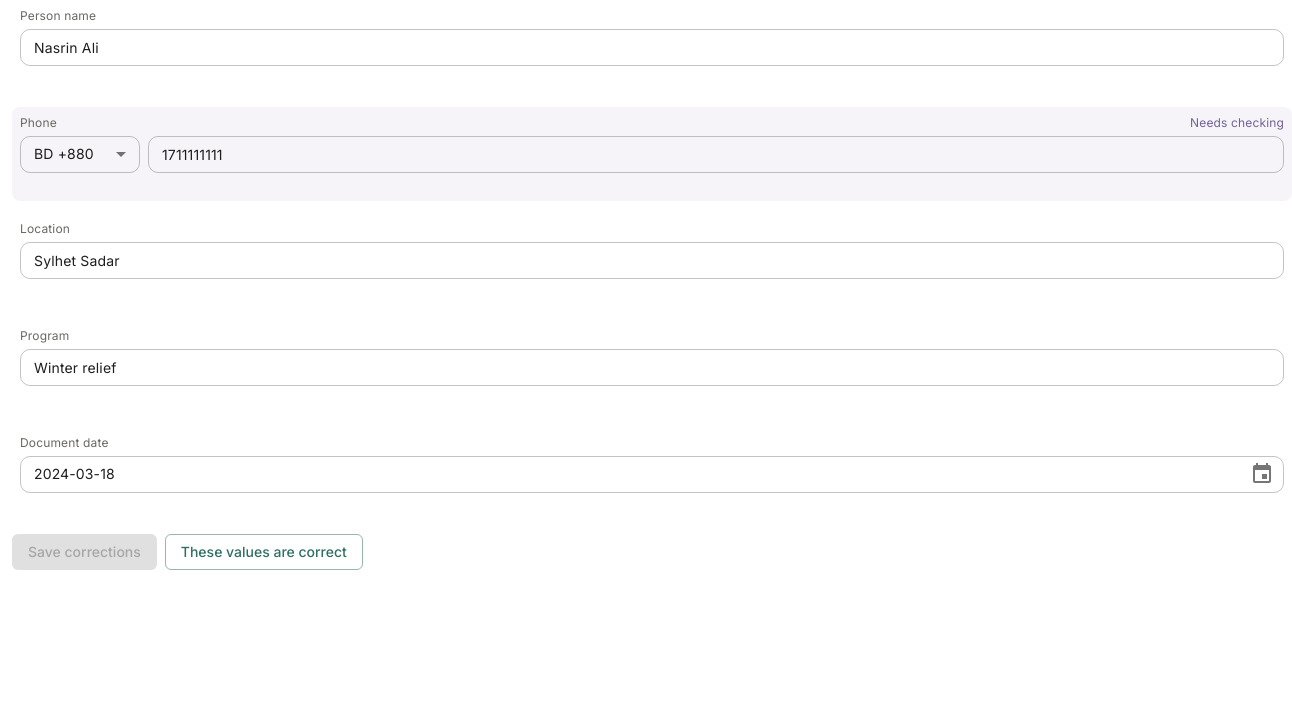
Test: CorrectionForm › cannot be saved until something changes
This screenshot has width=1292, height=720.
Expected: the button "Save corrections" is disabled, [12,534,157,570]
Type "x" into the field labelled "Person name" at [652, 47], box [20,29,1284,66]
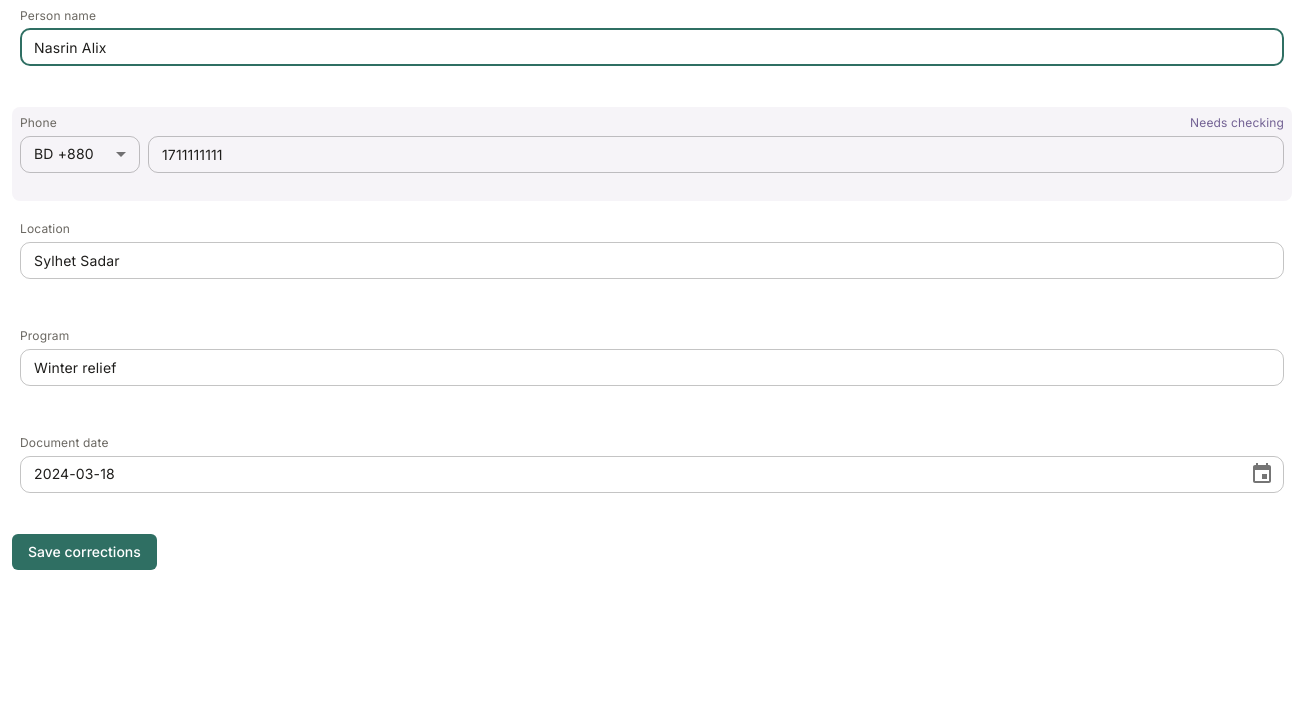
Expected: the button "Save corrections" is enabled, [12,534,157,570]
